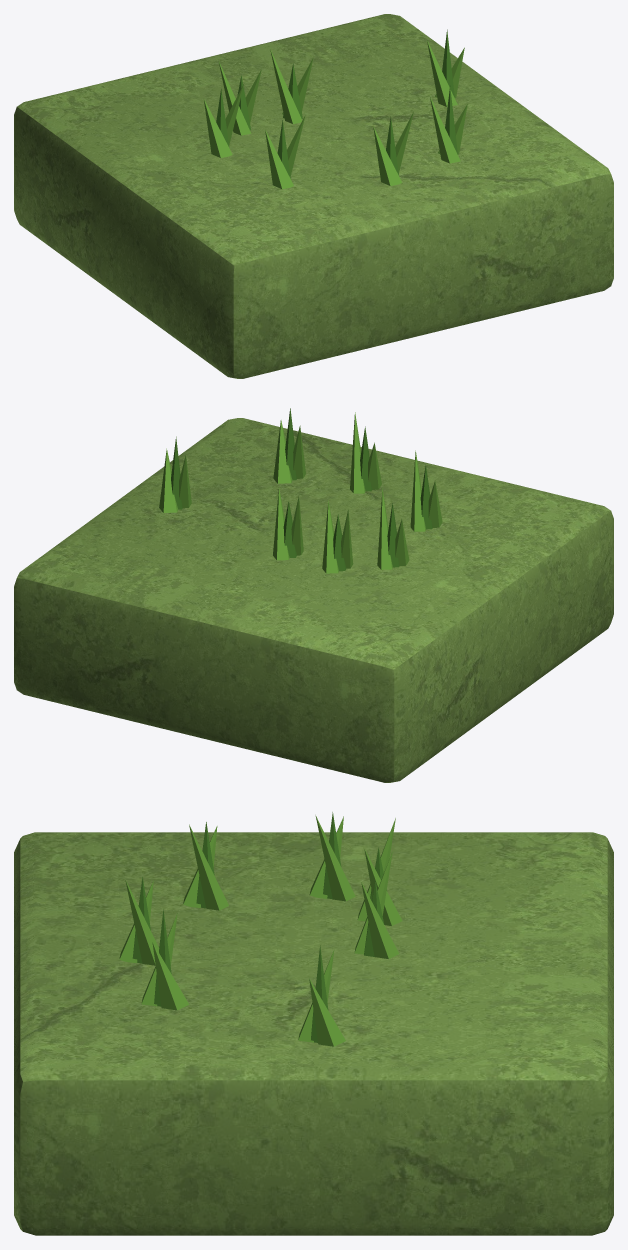
The model's file is trans_ground_mossy.glb.
The picture shows the model from 3 angles, top to bottom: view 1: azimuth 30°, elevation 25°; view 2: azimuth 150°, elevation 25°; view 3: azimuth 270°, elevation 25°; orthographic projection. The views are drawn at different scales.
Visible parts, largest first — view 1: trans_ground_mossy; view 2: trans_ground_mossy; view 3: trans_ground_mossy.
Part boxes in pixels (x1,y1,x2,y2): trans_ground_mossy: [14, 14, 613, 378]; trans_ground_mossy: [14, 408, 613, 782]; trans_ground_mossy: [14, 812, 613, 1235].
Bounding box in the file's own units: 0.98 × 0.47 × 0.98.
3 materials, 1 textured.
